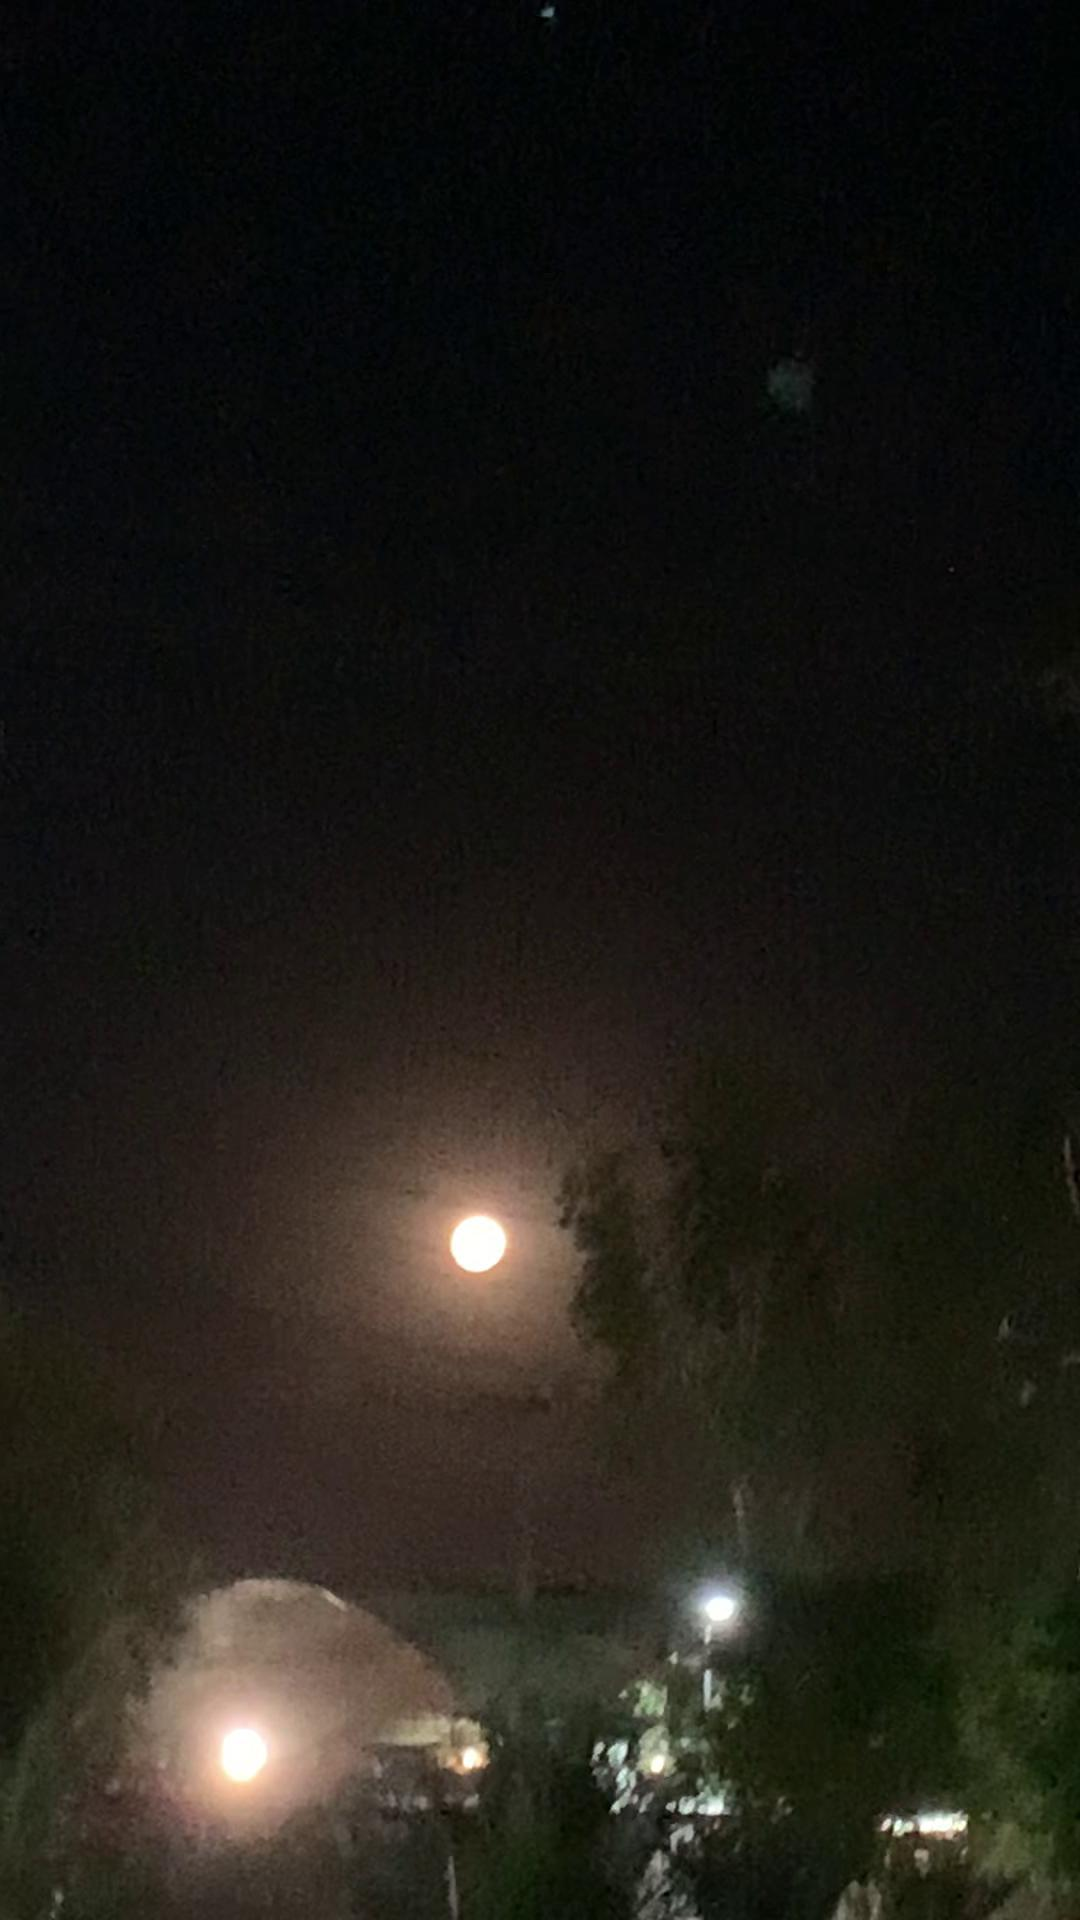moon: (436, 1216, 506, 1287)
